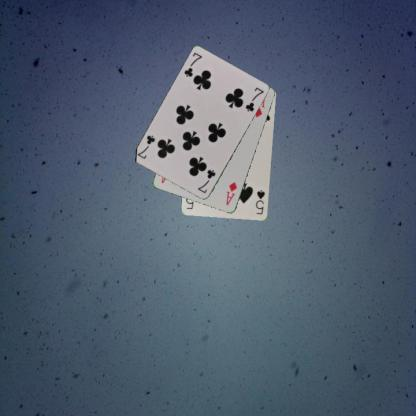5s: (253, 187, 266, 216)
7c: (182, 50, 204, 79), (195, 167, 217, 195)
Ad: (224, 179, 238, 207)
